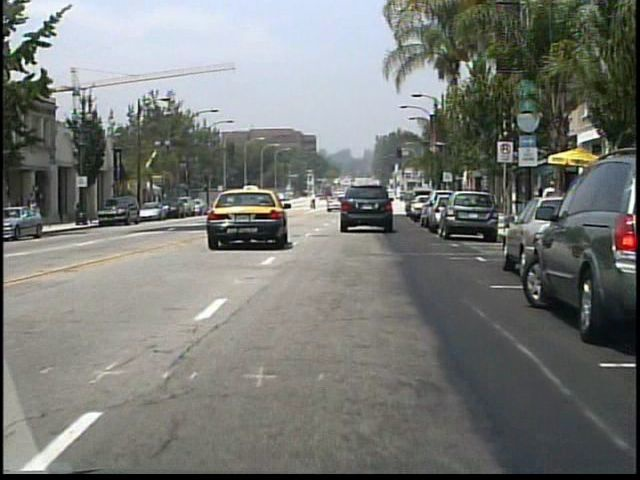person: (30, 195, 43, 228), (307, 192, 318, 212), (310, 191, 319, 211)
